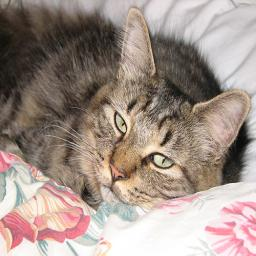catnose: (108, 158, 130, 186)
